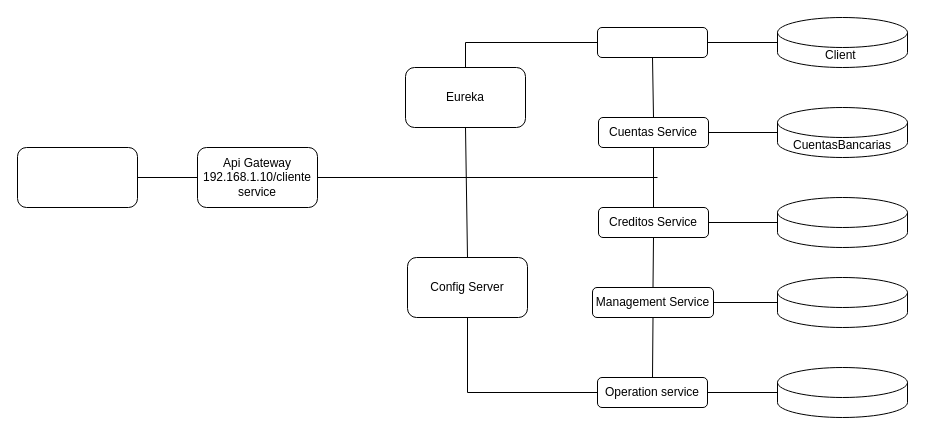
Image size: 925x435. Some labels were removed from this diagram. Each missing label, with the centre of its shape:
"Client service" goes at point (652, 42).
"Consult u Operation" goes at point (842, 392).
"Creditos" goes at point (842, 222).
"Management" goes at point (842, 302).
"Users" goes at point (77, 177).
